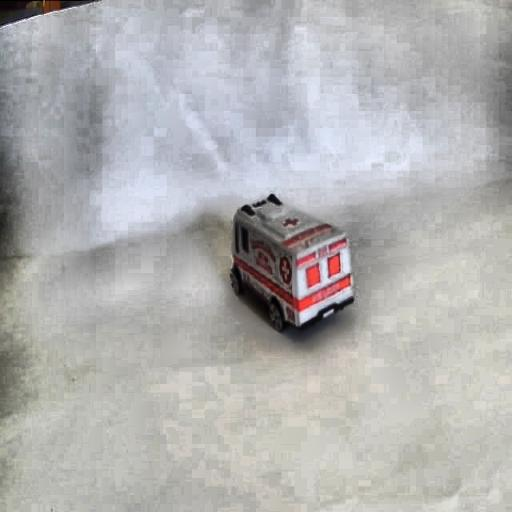ambulance: (229, 192, 354, 332)
